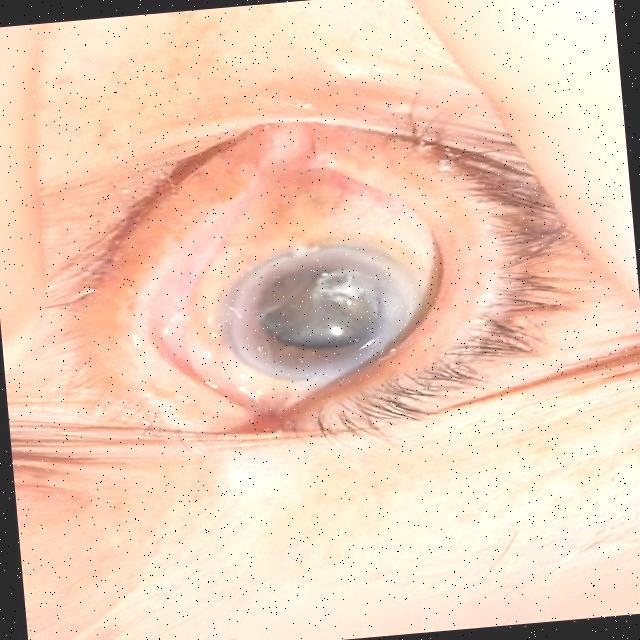Cataract: (194, 218, 439, 397)
